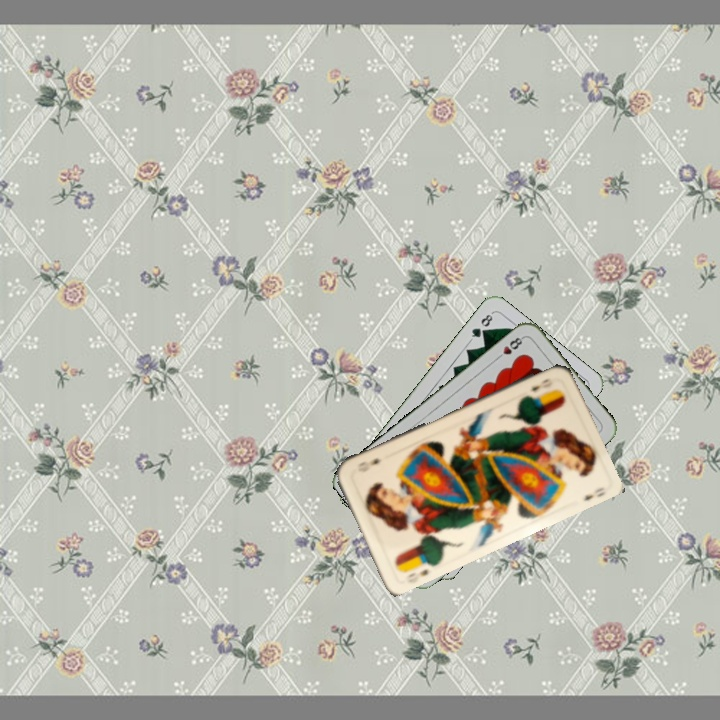EO: (402, 565, 435, 583), (527, 374, 555, 395)
G8: (466, 309, 495, 343)
H8: (492, 333, 527, 362)
